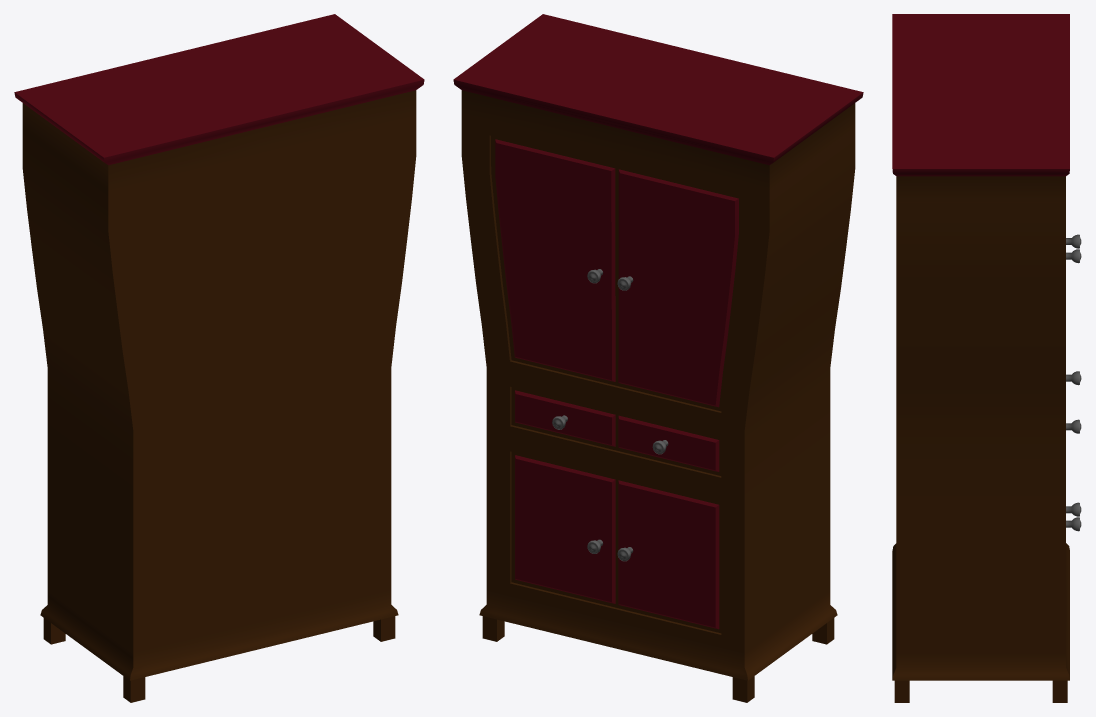
Rendered from SM_Armoire.fbx.
3 views of the same model, side by side, from view 1: azimuth 30°, elevation 25°; view 2: azimuth 150°, elevation 25°; view 3: azimuth 270°, elevation 25° (orthographic).
Parts seen in each view (by area): view 1: SM_Armoire; view 2: SM_Armoire; view 3: SM_Armoire.
Boxes of the visible parts, x1=… form: SM_Armoire: x1=14, y1=14, x2=424, y2=702; SM_Armoire: x1=453, y1=14, x2=863, y2=702; SM_Armoire: x1=892, y1=14, x2=1081, y2=702.
Size of the model in its own units: 128 by 210 by 65.82.
